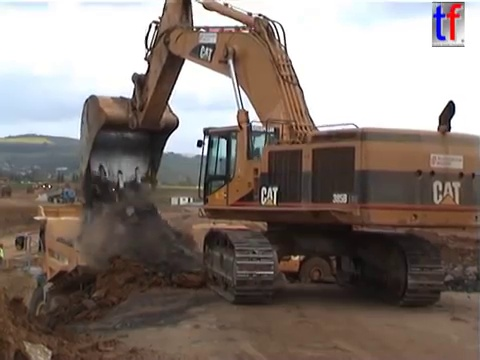excavator: (74, 1, 479, 309)
truck: (12, 201, 200, 337), (275, 222, 431, 293), (185, 219, 280, 301), (24, 180, 38, 195)
